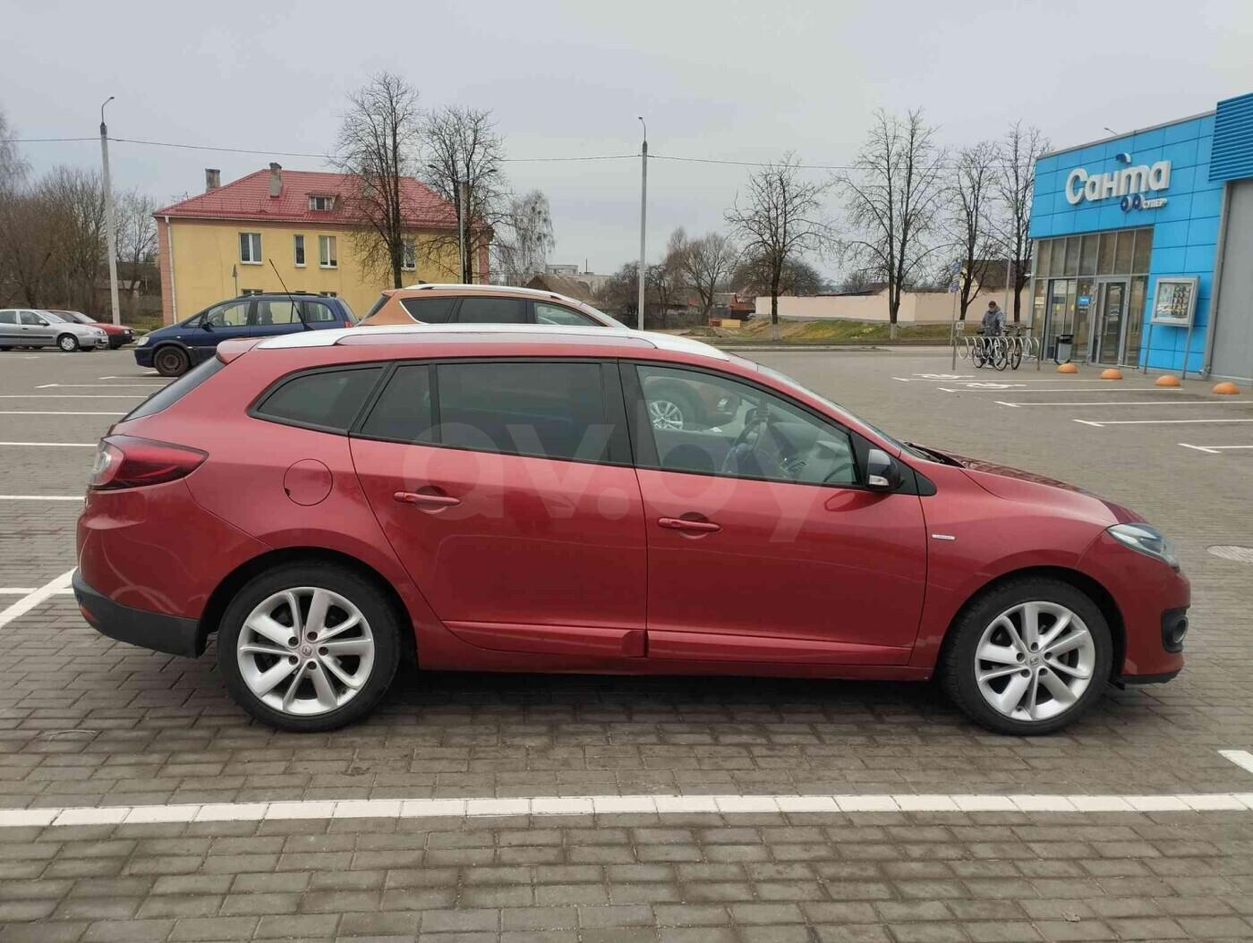Megane_2014-2016: (70, 323, 1201, 730)
